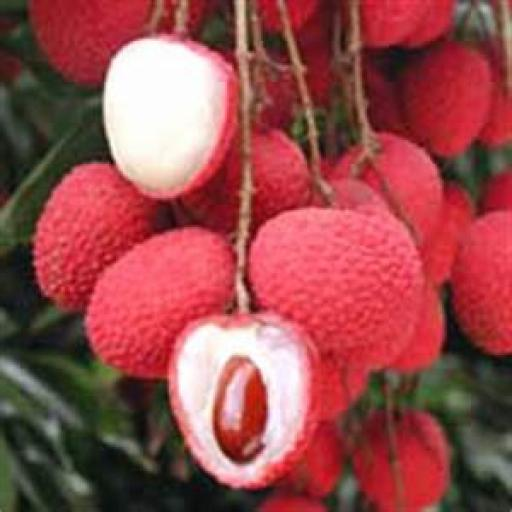lychee: (249, 209, 422, 368), (167, 315, 316, 488), (85, 227, 232, 378), (102, 36, 236, 199), (34, 163, 161, 310), (29, 0, 173, 85), (332, 134, 441, 244), (399, 41, 490, 157), (29, 0, 152, 85), (353, 410, 449, 510), (452, 212, 511, 354), (250, 130, 309, 228), (421, 183, 473, 285), (278, 422, 343, 496), (390, 284, 444, 373), (363, 57, 410, 138), (477, 40, 511, 148), (358, 0, 427, 47), (317, 357, 367, 421), (402, 0, 454, 47), (327, 176, 388, 215), (479, 168, 511, 213), (257, 494, 326, 511), (285, 0, 318, 30)
